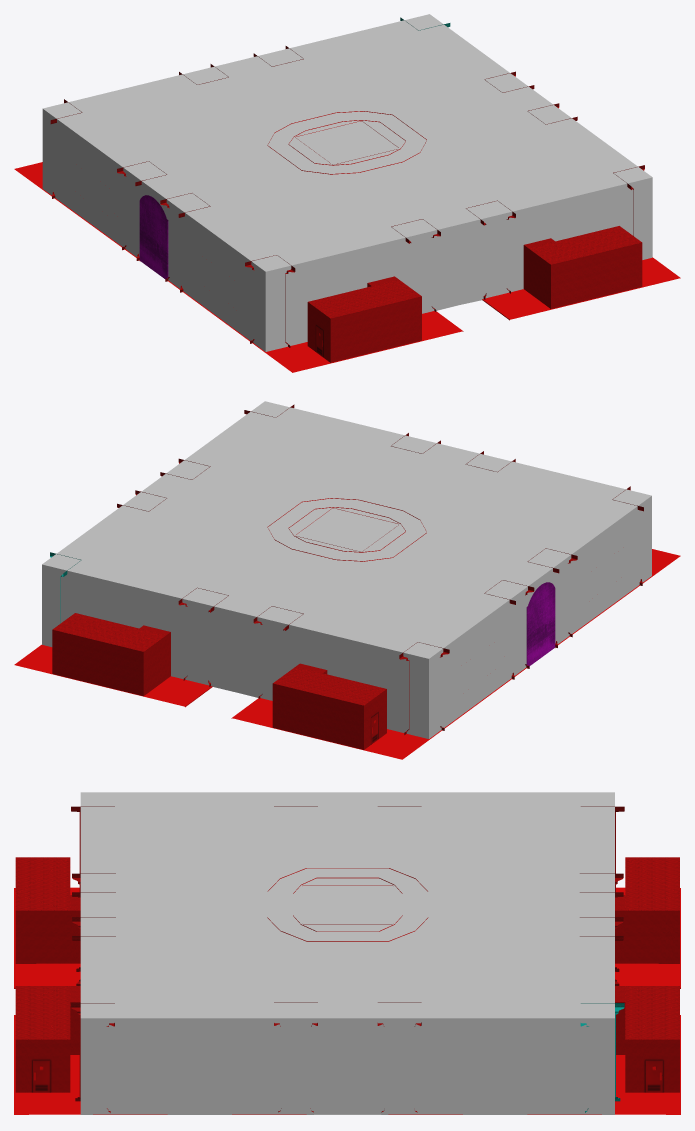
The model's file is polish.fbx.
The picture shows the model from 3 angles, top to bottom: view 1: azimuth 30°, elevation 25°; view 2: azimuth 150°, elevation 25°; view 3: azimuth 270°, elevation 25°; orthographic projection. The views are drawn at different scales.
Visible parts, largest first — view 1: polySurface2, polySurface3, polySurface1, carpet, exitDoorM, concessionStandTop; view 2: polySurface2, polySurface5, polySurface4, carpet, exitDoorM, concessionStandTop; view 3: polySurface2, carpet, polySurface3, polySurface1, polySurface4, polySurface5, exitDoorY, concessionStandTop.
Boxes of the visible parts, bbox=[...] form: polySurface2: bbox=[42, 14, 652, 351]; polySurface3: bbox=[523, 226, 642, 308]; polySurface1: bbox=[307, 276, 421, 362]; carpet: bbox=[14, 162, 680, 372]; exitDoorM: bbox=[139, 195, 168, 278]; concessionStandTop: bbox=[267, 111, 426, 174]; polySurface2: bbox=[42, 401, 651, 738]; polySurface5: bbox=[52, 613, 170, 696]; polySurface4: bbox=[272, 663, 386, 749]; carpet: bbox=[14, 549, 680, 759]; exitDoorM: bbox=[526, 582, 555, 666]; concessionStandTop: bbox=[267, 498, 426, 561]; polySurface2: bbox=[80, 792, 614, 1114]; carpet: bbox=[14, 887, 680, 1114]; polySurface3: bbox=[15, 986, 80, 1092]; polySurface1: bbox=[15, 857, 80, 963]; polySurface4: bbox=[615, 857, 679, 963]; polySurface5: bbox=[615, 986, 679, 1092]; exitDoorY: bbox=[314, 1027, 381, 1114]; concessionStandTop: bbox=[267, 868, 428, 941].
Bounding box in the file's own units: 41.38 × 8.19 × 49.95.
